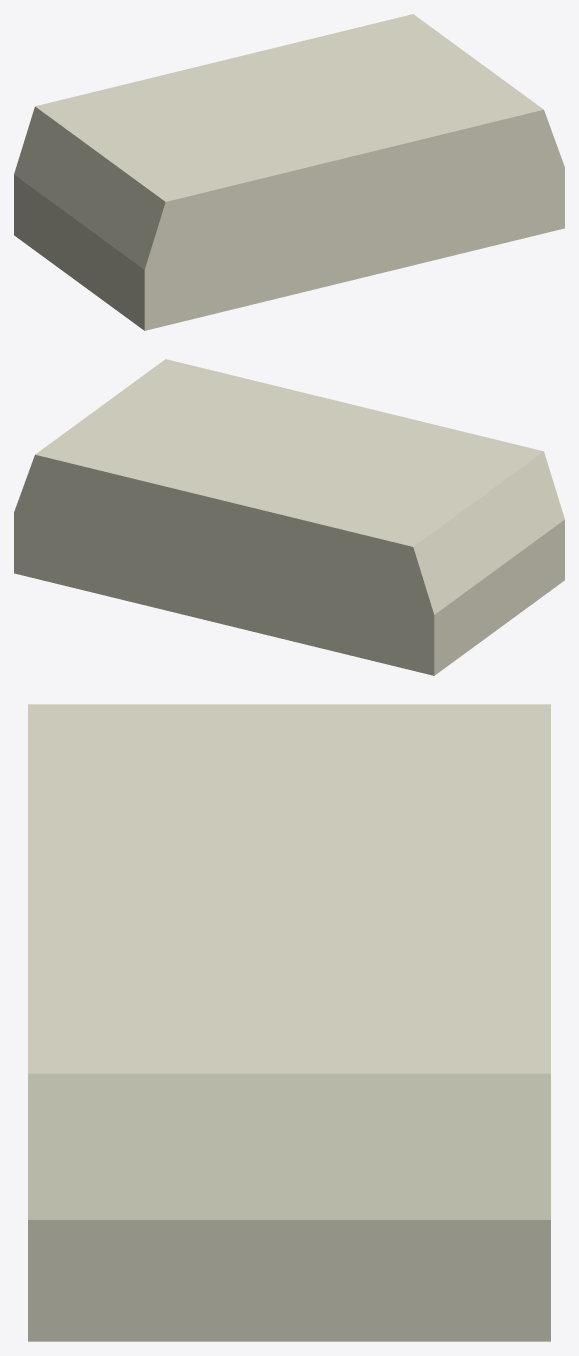
File: LED_0201.glb
3 renders of one model, top to bottom at view 1: azimuth 30°, elevation 25°; view 2: azimuth 150°, elevation 25°; view 3: azimuth 270°, elevation 25°, orthographic. The views are drawn at different scales.
Parts seen in each view (by area): view 1: =>[0:1:1:3]; view 2: =>[0:1:1:3]; view 3: =>[0:1:1:3].
Part boxes in pixels (box(x1,y1,x2,y2)): =>[0:1:1:3]: box(14, 14, 564, 330); =>[0:1:1:3]: box(14, 359, 564, 675); =>[0:1:1:3]: box(28, 704, 550, 1341).
Size of the model in its own units: 0.00065 by 0.0002 by 0.00035.
